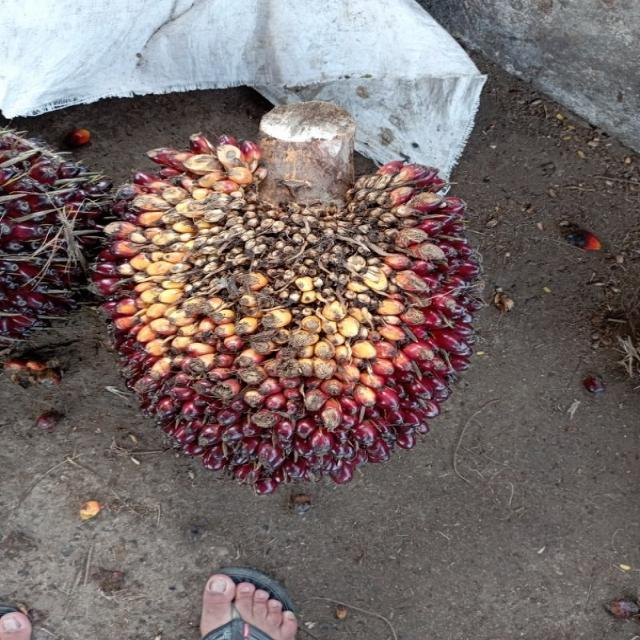fraksi 1: (70, 95, 538, 502)
